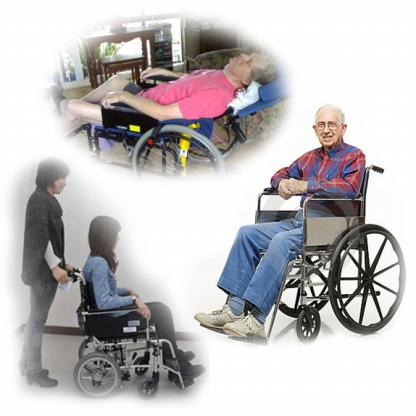wheelchair: (215, 101, 405, 350), (47, 45, 271, 172), (64, 212, 202, 404)
